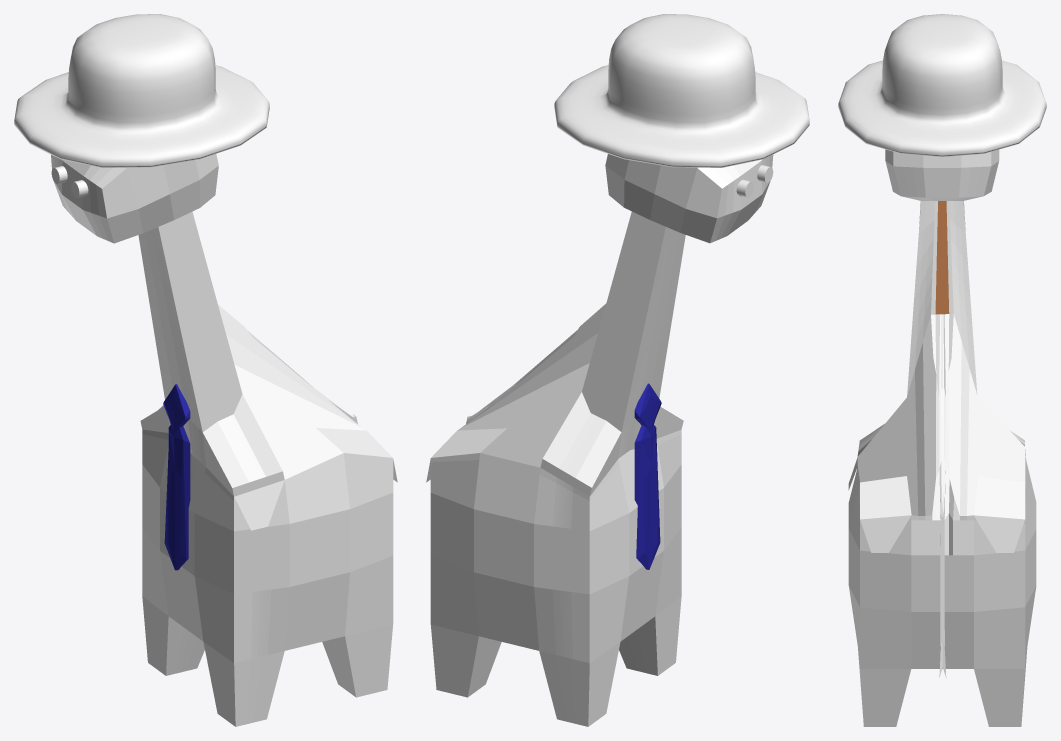
File: rafrafwalking_bhoed_stropdas.gltf
3 views of the same model, side by side, from view 1: azimuth 30°, elevation 25°; view 2: azimuth 150°, elevation 25°; view 3: azimuth 270°, elevation 25° (orthographic). The views are drawn at different scales.
Parts seen in each view (by area): view 1: Cube, Cube.005, Cube.002, Cube.006, Cube.001, Cube.003; view 2: Cube, Cube.005, Cube.003, Cube.006, Cube.004, Cube.002; view 3: Cube, Cube.005, Cube.001, Cube.004.
Part boxes in pixels (<box>): Cube: <box>51,154,397,662</box>; Cube.005: <box>14,14,269,167</box>; Cube.002: <box>203,642,284,726</box>; Cube.006: <box>163,384,190,570</box>; Cube.001: <box>322,624,392,697</box>; Cube.003: <box>142,596,204,675</box>; Cube: <box>426,154,773,663</box>; Cube.005: <box>554,14,809,167</box>; Cube.003: <box>539,642,620,726</box>; Cube.006: <box>634,383,661,569</box>; Cube.004: <box>430,624,501,697</box>; Cube.002: <box>619,596,681,675</box>; Cube: <box>848,149,1036,677</box>; Cube.005: <box>838,14,1046,156</box>; Cube.001: <box>858,650,911,726</box>; Cube.004: <box>974,649,1027,726</box>.
Size of the model in its own units: 3.99 by 7.14 by 2.22.
8 materials, 1 textured.
